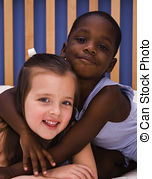face: (18, 60, 82, 143), (64, 8, 122, 80)
